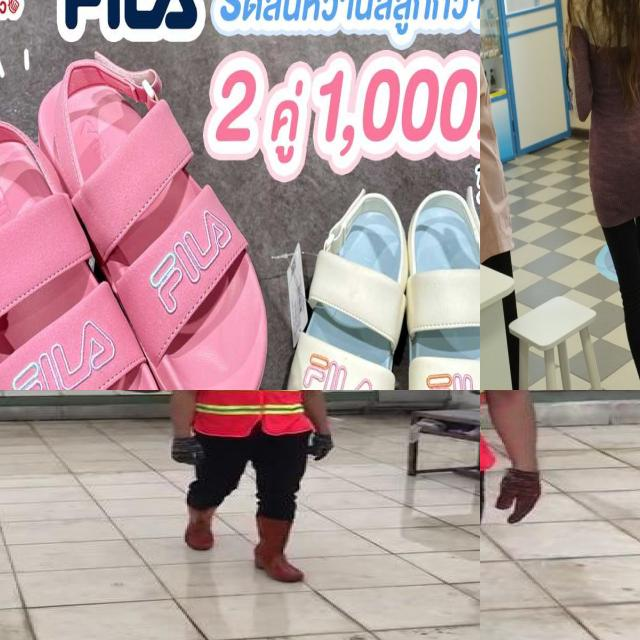Sandals: (0, 48, 285, 390), (277, 164, 480, 390)
boots: (254, 512, 308, 583), (182, 500, 217, 552)
hand_glove: (499, 469, 541, 525), (306, 430, 336, 459), (171, 438, 203, 464)
person: (161, 390, 342, 590), (480, 390, 554, 640)
vest: (196, 390, 315, 434)
